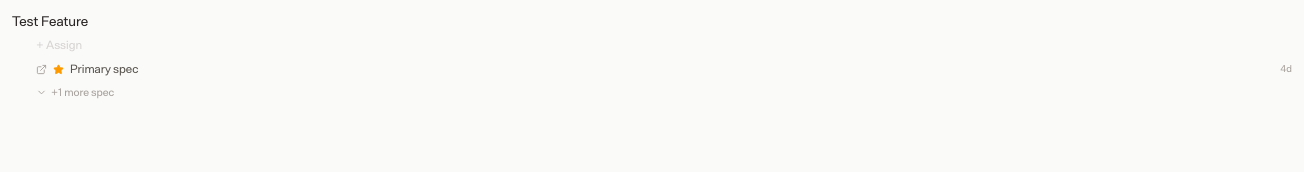
Test: FeatureCard › shows the primary spec as the direct link and puts siblings in overflow
Expected: the icon named "Primary spec" is shown, [53, 64, 64, 75]
Expected: the text "Newest spec" is not shown
Click the button "+1 more spec": (75, 93) [36, 84, 114, 101]
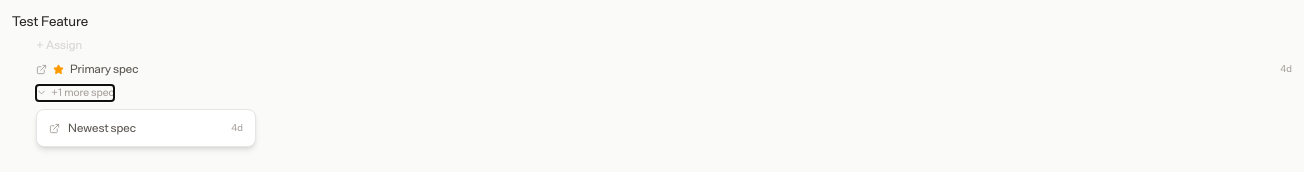
Now the text "Newest spec" is shown, box [68, 121, 136, 135]
